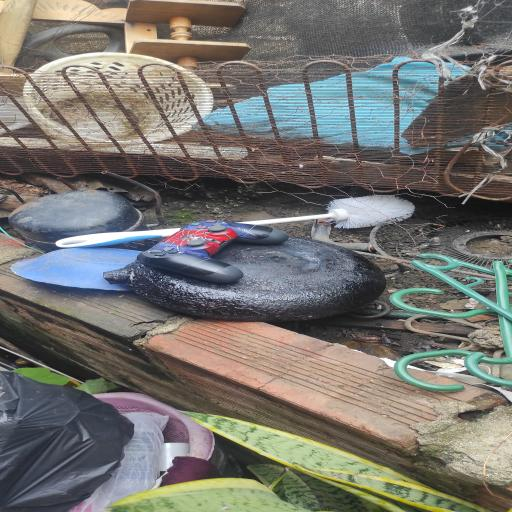ControlPlay4: (137, 220, 288, 283)
